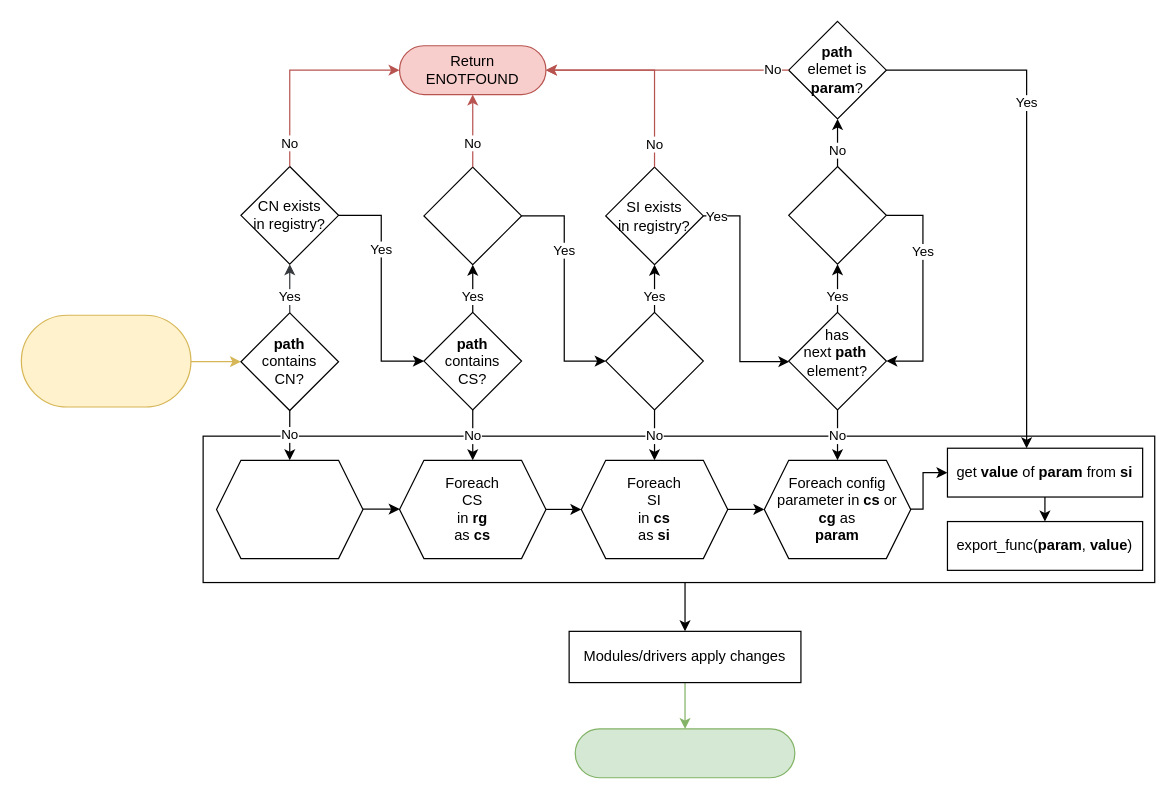
The diagram is 1176 pixels wide and 799 high, and some of its shapes have lost their labels. The shapes that lost their labels are listed below. From the top down, each one's box as (x1, y1, x2, y2) in pixels, then its label:
(423, 166, 522, 265): CS exists in registry?
(788, 165, 886, 264): path element is CG?
(20, 314, 191, 407): registry_export( path , &export_func , )
(605, 311, 703, 410): path contains SI?
(215, 459, 363, 559): Foreach CN as rg
(574, 728, 795, 778): All configuration changes for "path" take effect
